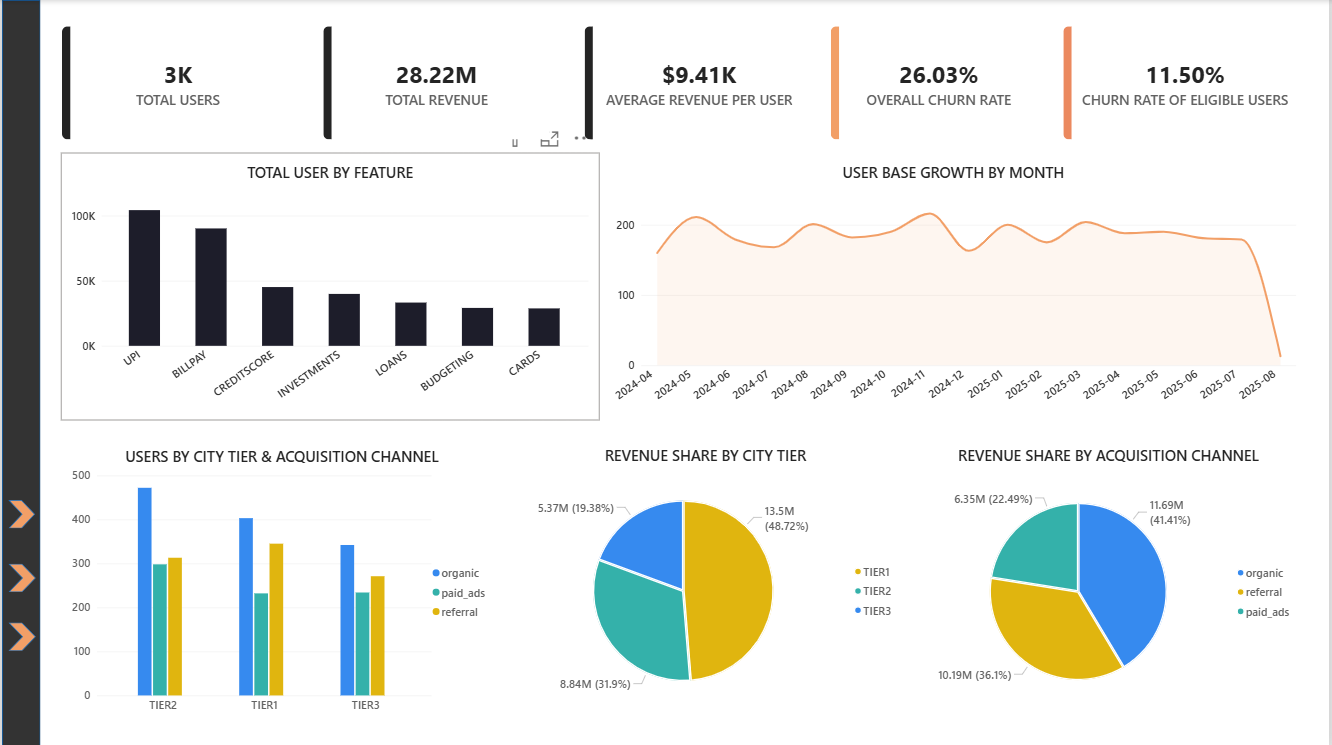

This screenshot's page, from the dashboard's own definition file:
{"tool":"powerbi","page":{"name":"Overview","canvas":[1920,1080],"ordinal":0},"visuals":[{"type":"shape","box":[0,0,55.6,1080],"z":0,"group":"g2"},{"type":"cardVisual","fields":{"Data":["Measure Table.Total Users"]},"box":[86.7,37.8,336.7,164.4],"z":0,"group":"g1"},{"type":"lineChart","title":"USER BASE GROWTH BY MONTH","fields":{"Category":["Dim_Date.YearMonth"],"Y":["Measure Table.Total Users"]},"box":[864.4,220,1024.4,391.1],"z":0},{"type":"cardVisual","fields":{"Data":["Measure Table.Overall Churn Rate"]},"box":[1198.8,37.8,313.9,164.4],"z":1000,"group":"g1"},{"type":"clusteredColumnChart","title":"USERS BY CITY TIER & ACQUISITION CHANNEL","fields":{"Category":["dim_user.city_tier"],"Series":["dim_user.acquisition_channel"],"Y":["Measure Table.Total Users"]},"box":[84.4,631.1,640,422.2],"z":1000},{"type":"shape","box":[8.2,723.5,38.8,41.2],"z":1000,"group":"g2"},{"type":"cardVisual","fields":{"Data":["Sum(fact_user_feature.total_revenue)"]},"box":[465,37.8,328.4,164.4],"z":2000,"group":"g1"},{"type":"clusteredColumnChart","title":"TOTAL USER BY FEATURE","fields":{"Category":["dim_feature.feature_name"],"Y":["Sum(fact_user_feature.total_usage_count)"]},"box":[84.4,220,780,388.9],"z":2000},{"type":"shape","box":[8.2,815.3,40,41.2],"z":2000,"group":"g2"},{"type":"cardVisual","fields":{"Data":["Measure Table.Avg Revenue per User"]},"box":[843.3,37.8,332.6,164.4],"z":3000,"group":"g1"},{"type":"pieChart","title":"REVENUE SHARE BY ACQUISITION CHANNEL","fields":{"Category":["dim_user.acquisition_channel"],"Y":["Sum(fact_user_feature.total_revenue)"]},"box":[1313.3,628.9,575.6,424.4],"z":3000},{"type":"shape","box":[8.2,901.2,40,41.2],"z":3000,"group":"g2"},{"type":"pieChart","title":"REVENUE SHARE BY CITY TIER","fields":{"Category":["dim_user.city_tier"],"Y":["Sum(fact_user_feature.total_revenue)"]},"box":[724.4,628.9,588.9,422.2],"z":4000},{"type":"group","id":"g1","title":"Group 1","box":[86.7,37.8,1802.2,164.4],"z":5000},{"type":"group","id":"g2","title":"Group 1","box":[0,0,55.6,1080],"z":5001},{"type":"cardVisual","fields":{"Data":["Measure Table.Churn Rate Eligible"]},"box":[1535.5,37.8,353.4,164.4],"z":6000,"group":"g1"}]}

Visuals, with their boxes on the page's 1920x1080 design canvas (x1, y1, x2, y2). These are canvas units, not pixel positions in the 1332x745 screenshot, which may show the page scaled, cropped or inside an application window:
shape: pyautogui.locateOnScreen(0, 0, 56, 1080)
cardVisual - Measure Table.Total Users: pyautogui.locateOnScreen(87, 38, 423, 202)
"USER BASE GROWTH BY MONTH" lineChart: pyautogui.locateOnScreen(864, 220, 1889, 611)
cardVisual - Measure Table.Overall Churn Rate: pyautogui.locateOnScreen(1199, 38, 1513, 202)
"USERS BY CITY TIER & ACQUISITION CHANNEL" clusteredColumnChart: pyautogui.locateOnScreen(84, 631, 724, 1053)
shape: pyautogui.locateOnScreen(8, 724, 47, 765)
cardVisual - Sum(fact_user_feature.total_revenue): pyautogui.locateOnScreen(465, 38, 793, 202)
"TOTAL USER BY FEATURE" clusteredColumnChart: pyautogui.locateOnScreen(84, 220, 864, 609)
shape: pyautogui.locateOnScreen(8, 815, 48, 856)
cardVisual - Measure Table.Avg Revenue per User: pyautogui.locateOnScreen(843, 38, 1176, 202)
"REVENUE SHARE BY ACQUISITION CHANNEL" pieChart: pyautogui.locateOnScreen(1313, 629, 1889, 1053)
shape: pyautogui.locateOnScreen(8, 901, 48, 942)
"REVENUE SHARE BY CITY TIER" pieChart: pyautogui.locateOnScreen(724, 629, 1313, 1051)
"Group 1" group: pyautogui.locateOnScreen(87, 38, 1889, 202)
"Group 1" group: pyautogui.locateOnScreen(0, 0, 56, 1080)
cardVisual - Measure Table.Churn Rate Eligible: pyautogui.locateOnScreen(1536, 38, 1889, 202)
